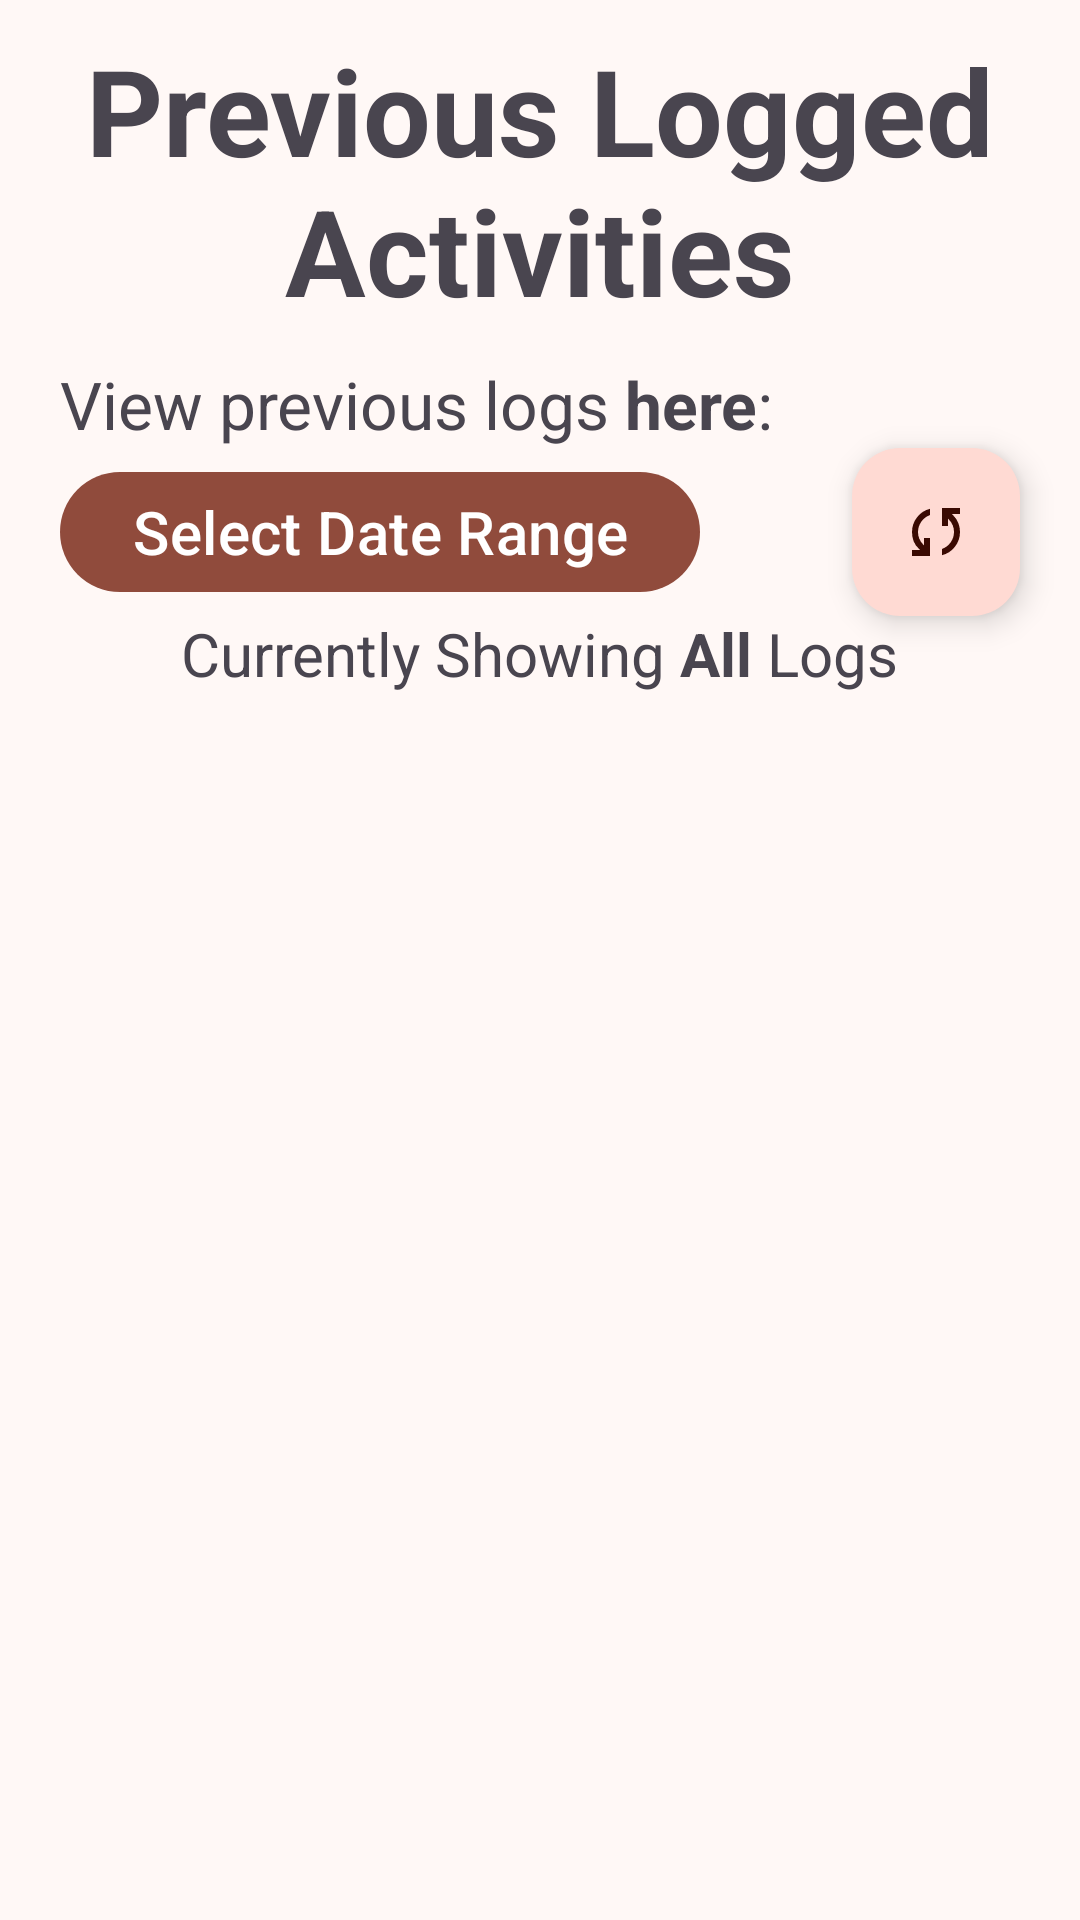

Screen size 1080x1920. Icon name, then its box in pixels as {"x1": x1, "y1": y1, "x2": x2, "y2": y2}:
refresh: {"x1": 852, "y1": 448, "x2": 1020, "y2": 616}
